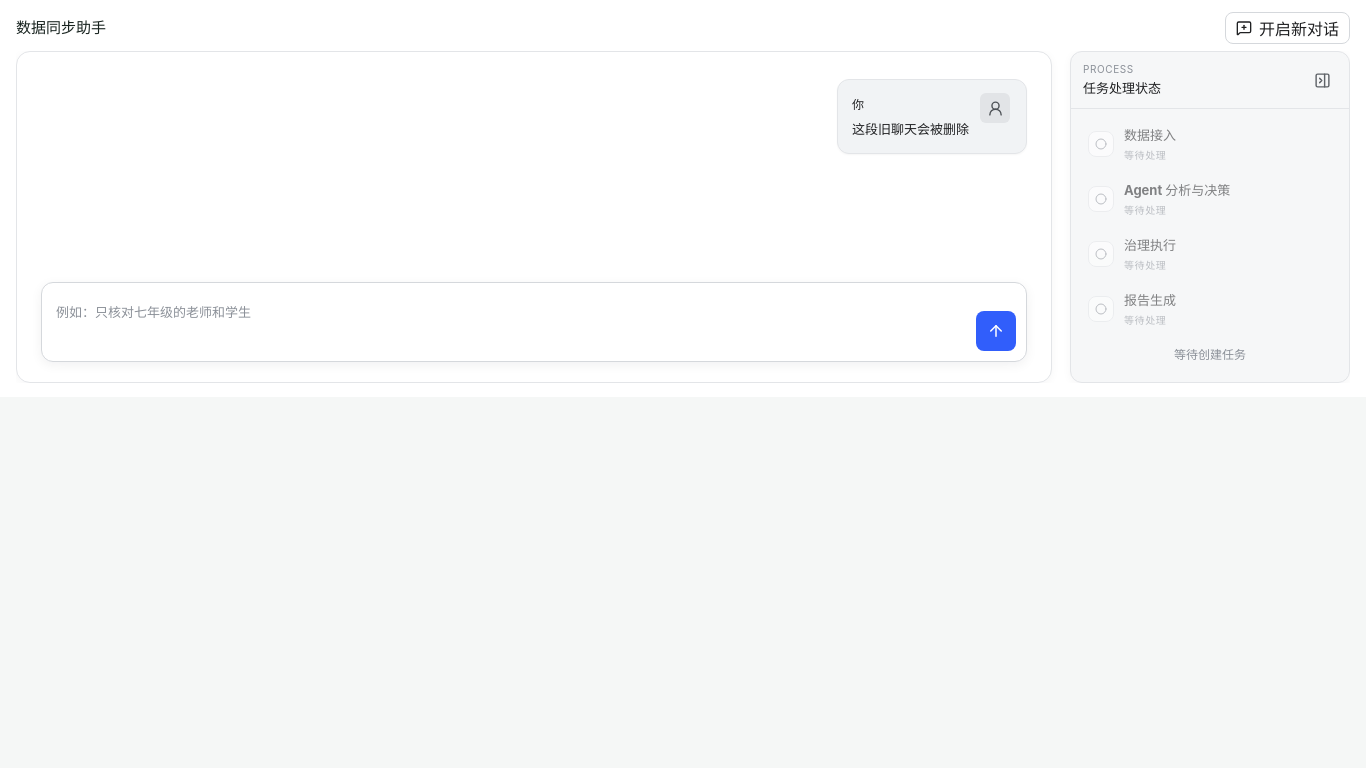
backend Agent conversation › permanently replaces chat after explicit new-conversation confirmation
This screenshot has width=1366, height=768.
Expected: the text "这段旧聊天会被删除" is shown, [852,118,969,140]
Click the button "开启新对话" at (1288,28), box [1225,12,1350,44]
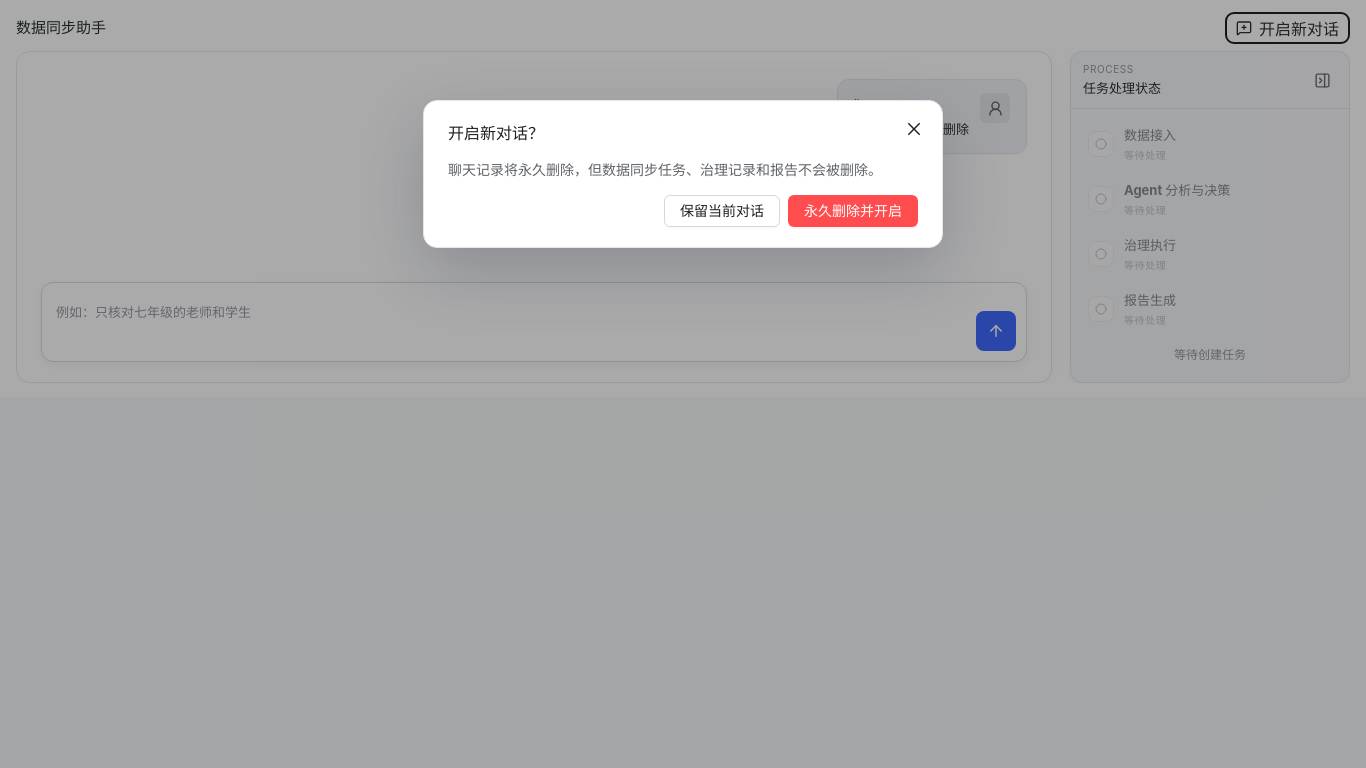
Now the dialog "开启新对话？" is shown, box [423,100,943,272]
Now the text "聊天记录将永久删除，但数据同步任务、治理记录和报告不会被删除。" is shown, box [448,159,918,181]
Click the button "永久删除并开启" at (853,211), box [788,195,918,227]
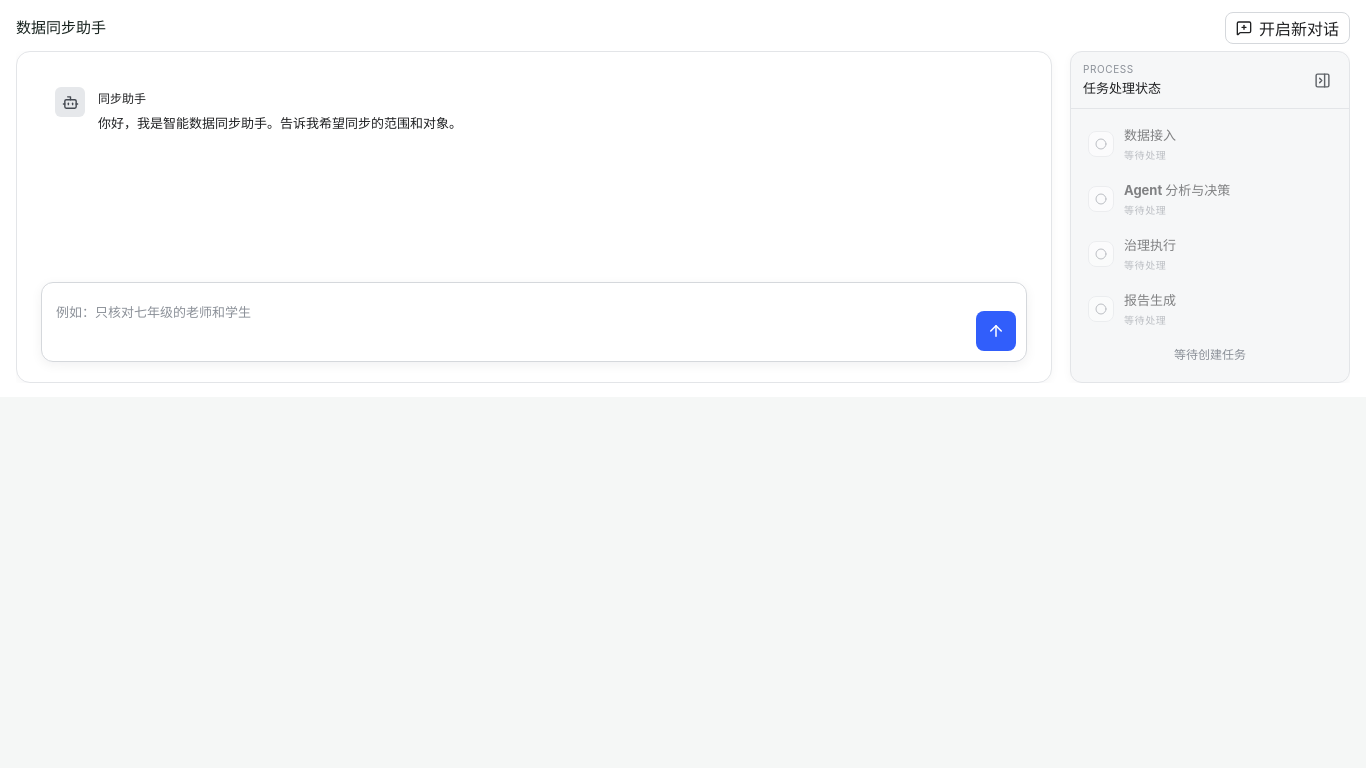
Now the text "这段旧聊天会被删除" is gone
Now the text "你好，我是智能数据同步助手。告诉我希望同步的范围和对象。" is shown, box [98,115,462,131]
